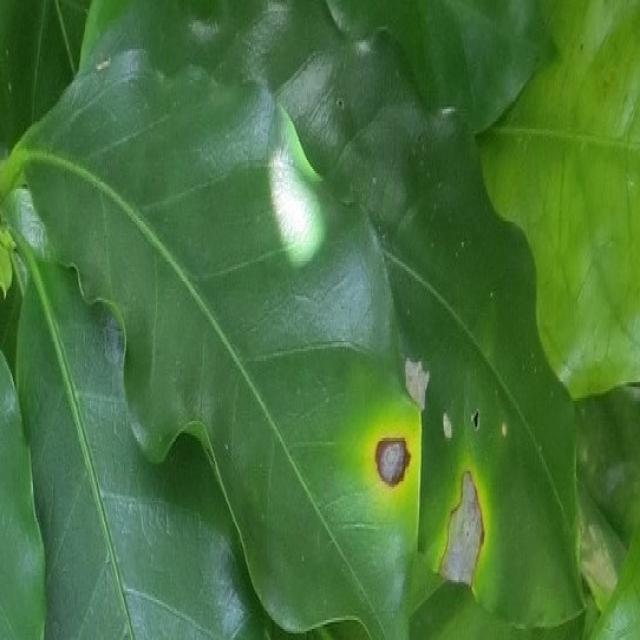Enfermedad-Mancha-de-hierro: (0, 47, 470, 640)
